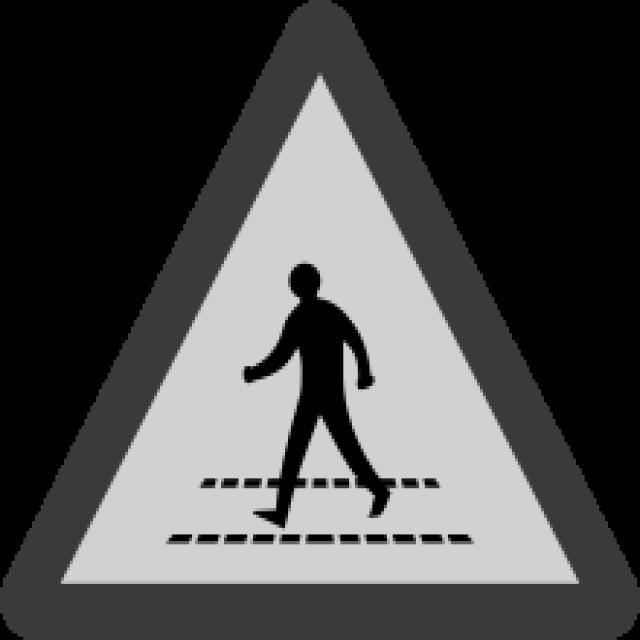pedestrian crossing: (35, 36, 606, 614)
